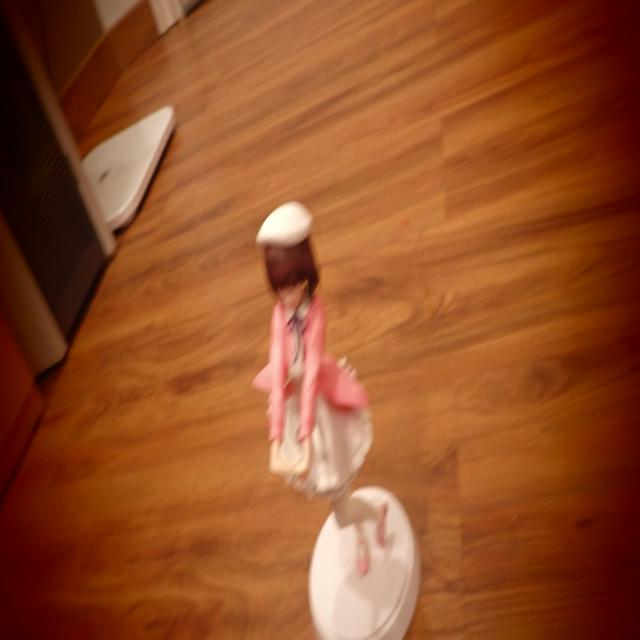My-pink-anime-figure: (253, 202, 388, 575)
